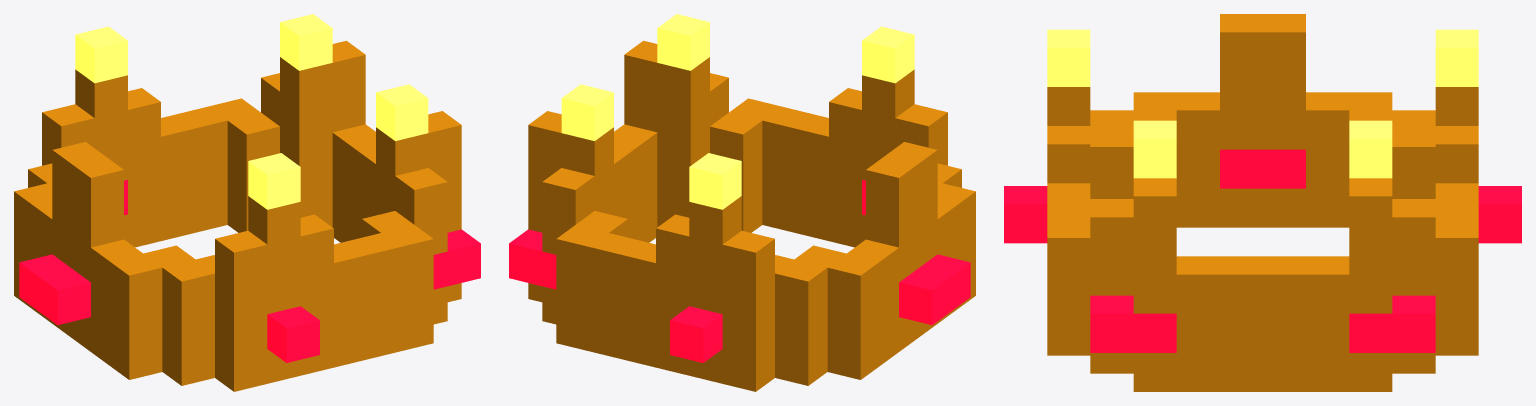
The model's file is item_CROWN.glb.
3 renders of one model, left to right at view 1: azimuth 30°, elevation 25°; view 2: azimuth 150°, elevation 25°; view 3: azimuth 270°, elevation 25°, orthographic. The views are drawn at different scales.
Visible parts, largest first — view 1: item_CROWN; view 2: item_CROWN; view 3: item_CROWN.
Boxes of the visible parts, x1,y1,x2,y2 form: item_CROWN: [14, 14, 480, 391]; item_CROWN: [509, 14, 975, 391]; item_CROWN: [1004, 14, 1521, 391].
Bounding box in the file's own units: 0.25 × 0.1364 × 0.2727.
1 material, 1 textured.
